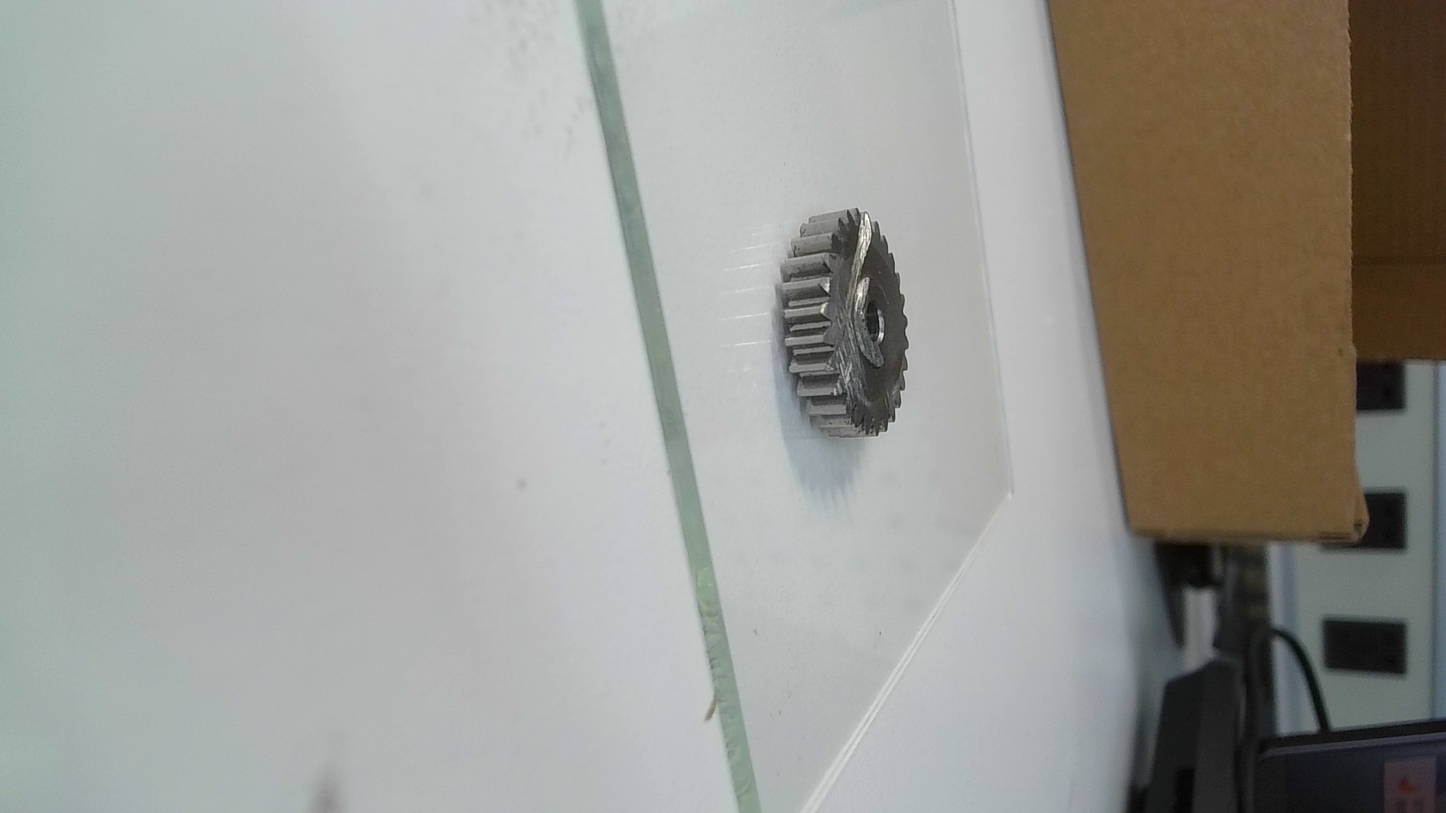gear: (776, 206, 915, 440)
